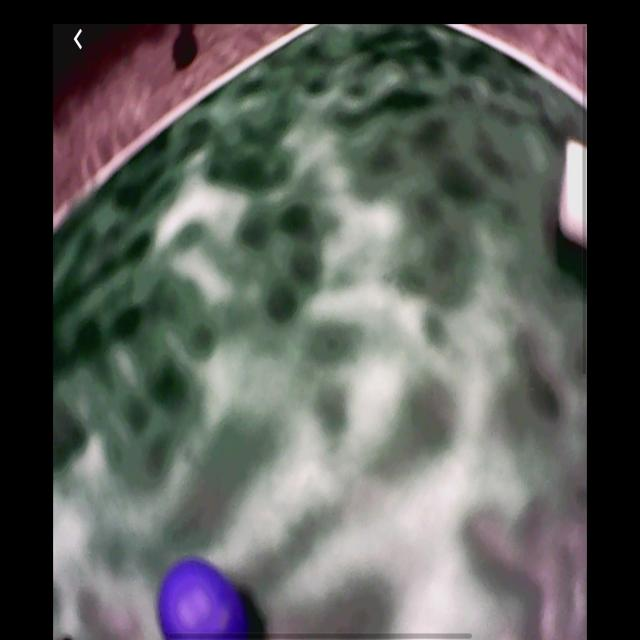ball: (158, 559, 247, 638)
